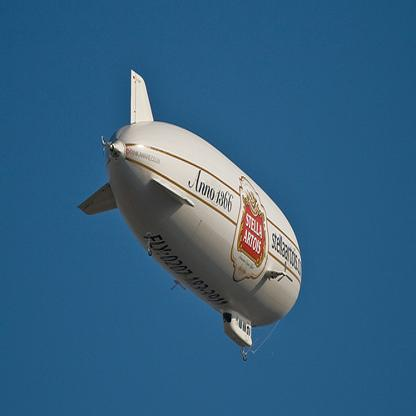Airship: (78, 70, 304, 364)
